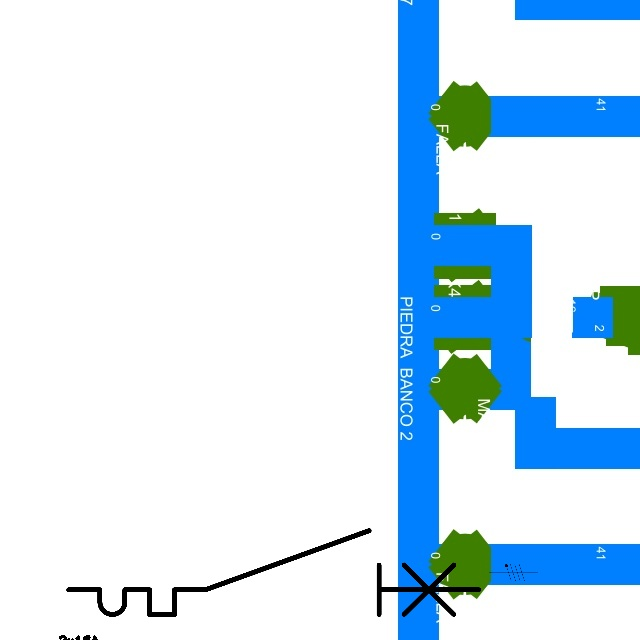interruptor_termomagnetico: (58, 520, 489, 625)
